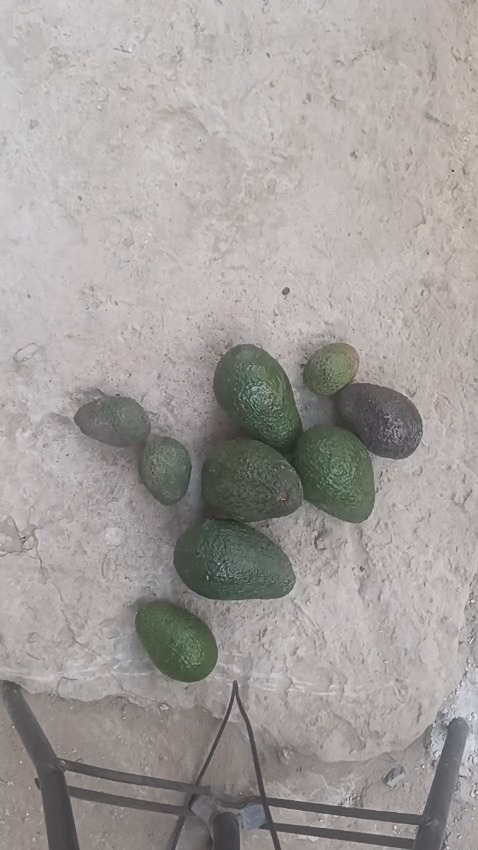Primera: (212, 343, 306, 450), (174, 517, 294, 600), (200, 438, 304, 524), (290, 423, 374, 523)
Segunda: (334, 382, 422, 459), (135, 599, 216, 682)
Tercera: (74, 395, 150, 448), (139, 433, 192, 506), (302, 342, 359, 398)
